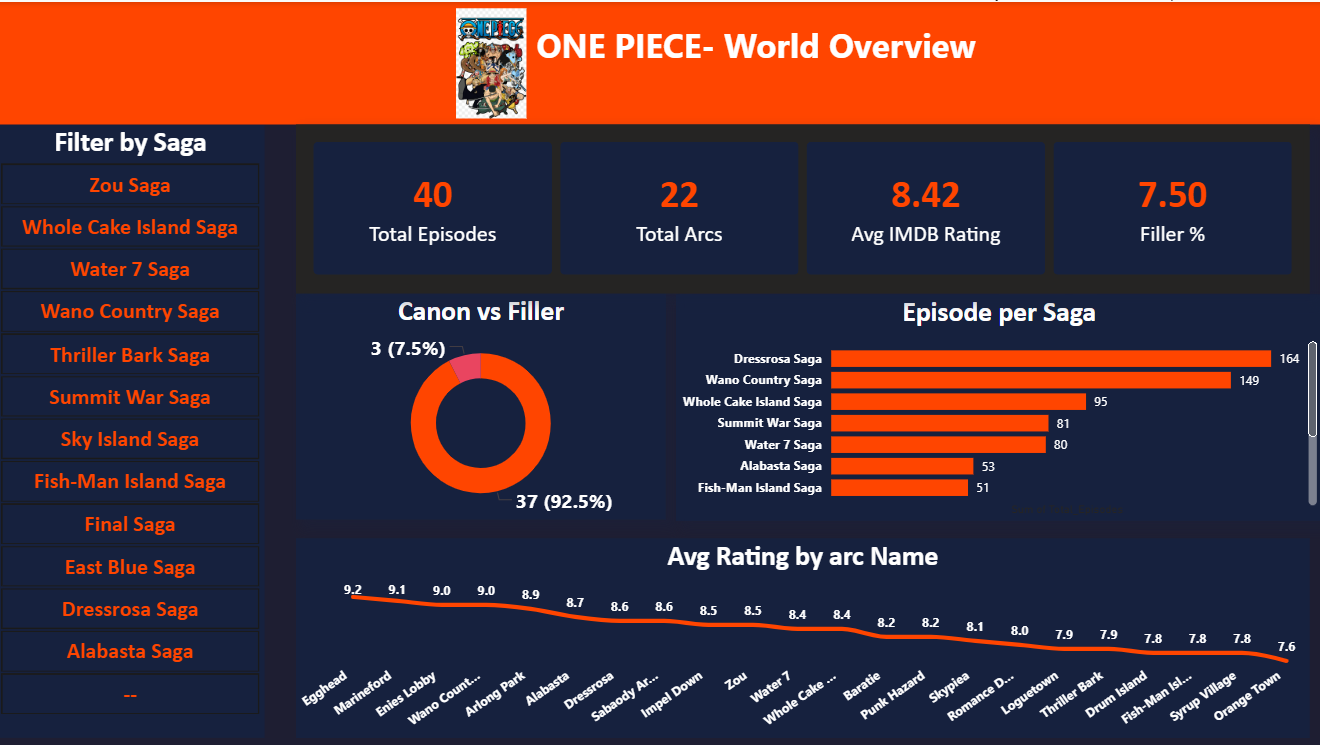

This screenshot's page, from the dashboard's own definition file:
{"tool":"powerbi","page":{"name":"World Overview","canvas":[1280,720],"ordinal":0},"visuals":[{"type":"shape","box":[0,0,1280,118.2],"z":0,"group":"g1"},{"type":"clusteredBarChart","title":" Episode per Saga","fields":{"Category":["Arcs.Saga_Name"],"Y":["Sum(Arcs.Total_Episodes)"]},"box":[656.3,390.9,623.7,218.4],"z":0},{"type":"textbox","box":[186.7,14.5,1093.4,60.3],"z":1000,"group":"g1"},{"type":"donutChart","title":"Canon vs Filler ","fields":{"Category":["Episodes.Is_Filler"],"Y":["CountNonNull(Episodes.Episode_Number)"]},"box":[289.5,281.1,357.1,218.4],"z":1000},{"type":"listSlicer","fields":{"Values":["Arcs.Saga_Name"]},"box":[0,118.2,259.4,592.4],"z":2000},{"type":"group","id":"g1","title":"Group 1","box":[0,0,1280,118.2],"z":3000},{"type":"cardVisual","fields":{"Data":["CountNonNull(Episodes.Episode_Number)","CountNonNull(Arcs.Arc_Name)","Avg(Episodes.IMDb_Rating)","Episodes.Filler %"]},"box":[289.5,118.2,978.4,162.9],"z":4000},{"type":"lineChart","title":"Avg Rating by arc Name","fields":{"Category":["Arcs.Arc_Name"],"Y":["Sum(Arcs.Avg_IMDb_Rating)"]},"box":[289.5,517.6,978.4,193],"z":5000},{"type":"image","box":[299.2,6,357.1,106.2],"z":6000}]}

Visuals, with their boxes in screenshot pixels (x1, y1, x2, y2), scaled from the page's 1280x720 canvas onto the 1320x745 screenshot:
shape: 0/0/1319/122
" Episode per Saga" clusteredBarChart: 677/404/1319/630
textbox: 193/15/1319/77
"Canon vs Filler " donutChart: 299/291/667/517
listSlicer - Arcs.Saga_Name: 0/122/268/735
"Group 1" group: 0/0/1319/122
cardVisual - CountNonNull(Episodes.Episode_Number) x CountNonNull(Arcs.Arc_Name): 299/122/1308/291
"Avg Rating by arc Name" lineChart: 299/536/1308/735
image: 309/6/677/116
